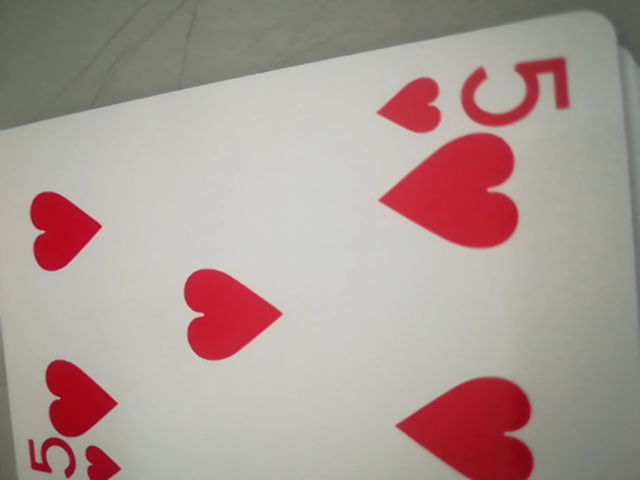hx 5: (378, 50, 573, 140)
